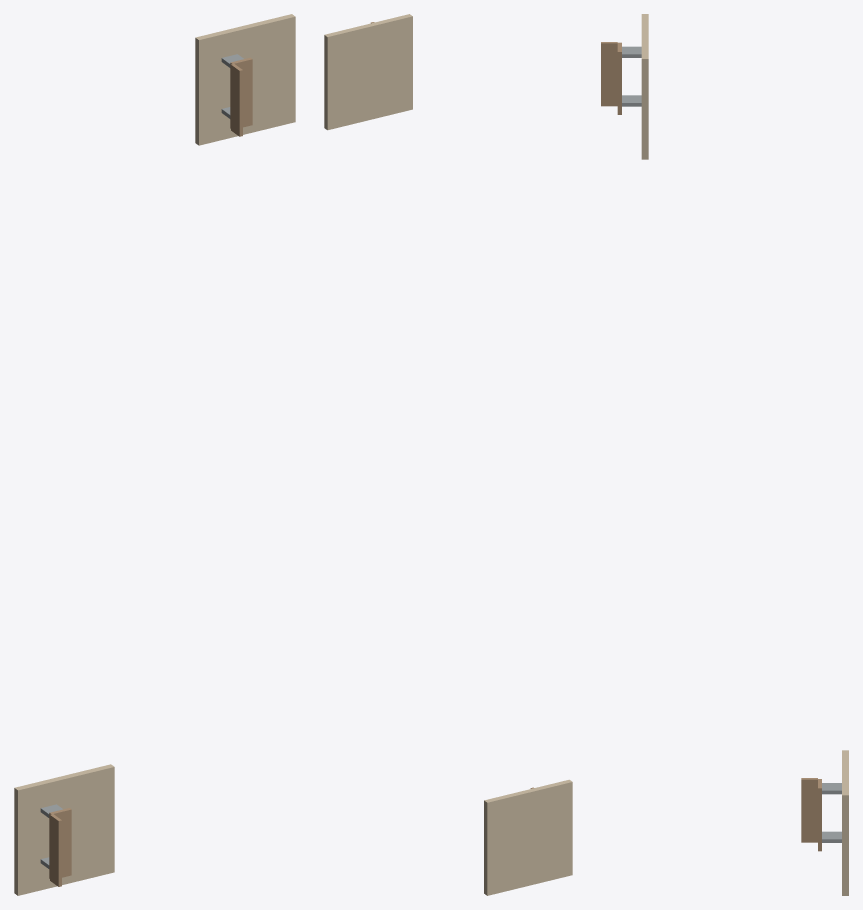
The model's file is improvement-3.glb.
3 renders of one model, left to right at view 1: azimuth 30°, elevation 25°; view 2: azimuth 210°, elevation 25°; view 3: azimuth 270°, elevation 25°, orthographic. The views are drawn at different scales.
Parts seen in each view (by area): view 1: Geom3D (×6); view 2: Geom3D (×2); view 3: Geom3D (×4).
Part boxes in pixels (bbox=[...]): Geom3D (×6): bbox=[14, 14, 295, 895]; Geom3D (×2): bbox=[324, 14, 572, 895]; Geom3D (×4): bbox=[601, 14, 848, 895].
Bounding box in the file's own units: 4.11 × 20.79 × 5.35.
